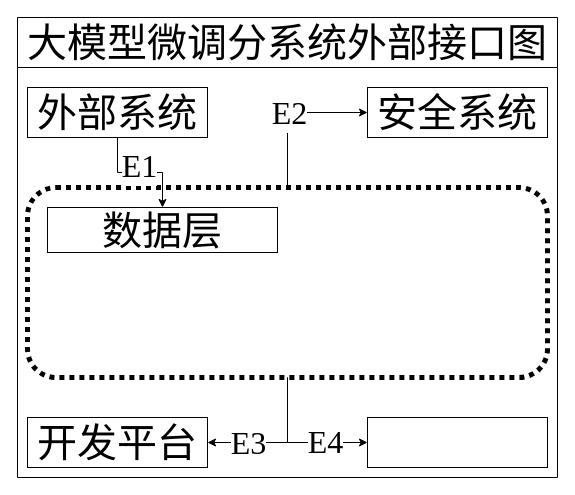
Some shapes in this 575 by 495 pixel diagram are drawn without their labels. The shapes that lost their labels are listed below. From the top down, each one's box as (x1, y1, x2, y2) in pixels, then its label:
(24, 184, 550, 380): 通用代码大模型微调分系统
(366, 416, 548, 468): 监控系统
